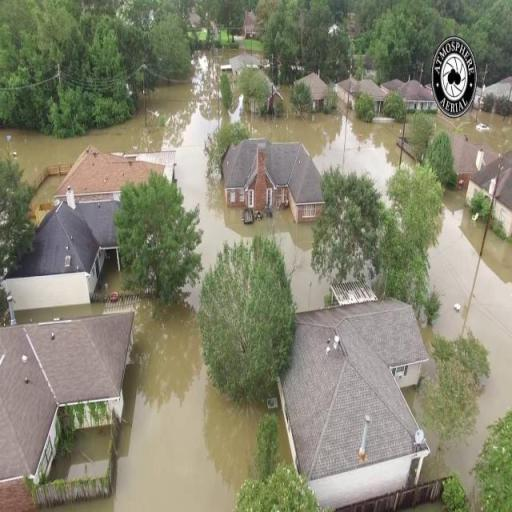flood: (0, 50, 402, 311), (40, 283, 267, 512), (423, 231, 512, 497), (424, 190, 484, 347), (49, 426, 110, 481), (434, 109, 512, 152), (16, 304, 103, 324), (405, 388, 425, 427), (277, 410, 290, 463), (407, 504, 442, 512)
house: (274, 284, 443, 512), (5, 298, 141, 493), (19, 198, 107, 304), (224, 140, 330, 217), (51, 146, 167, 202), (468, 152, 512, 235), (384, 75, 438, 116), (345, 74, 389, 120), (294, 68, 331, 118)
